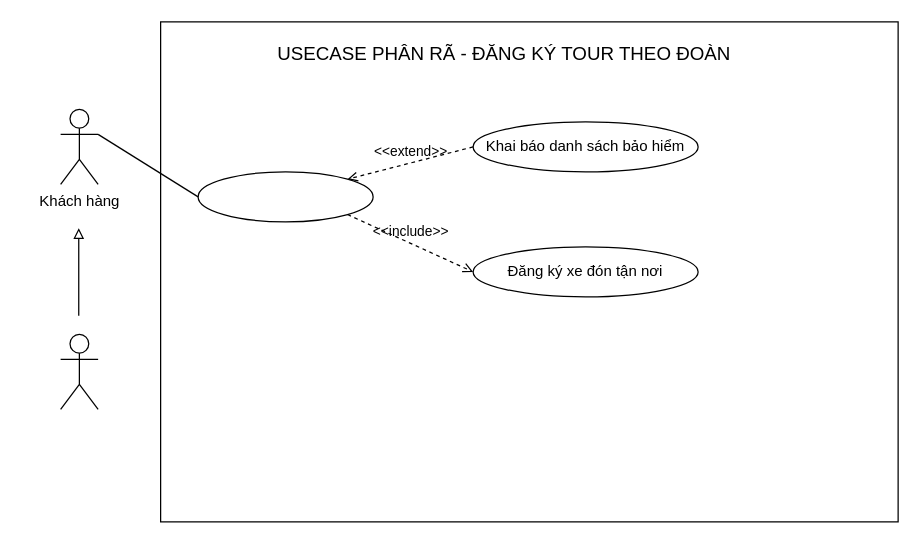
The diagram is 920 pixels wide and 544 high, and some of its shapes have lost their labels. The box of each missing label's shape, as (x1, y1, x2, y2) in pixels:
Nhân viên bán vé: (59, 333, 98, 409)
Đăng ký tour theo đoàn: (197, 171, 373, 222)
